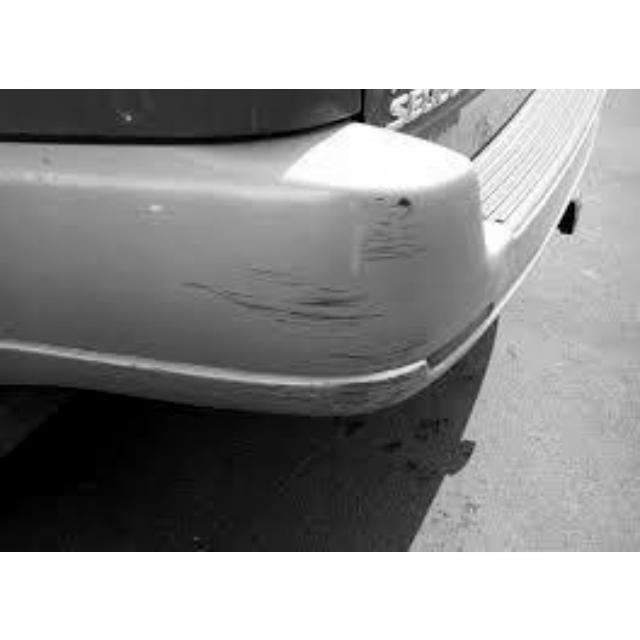rear-bumper-dent: (1, 125, 580, 432)
